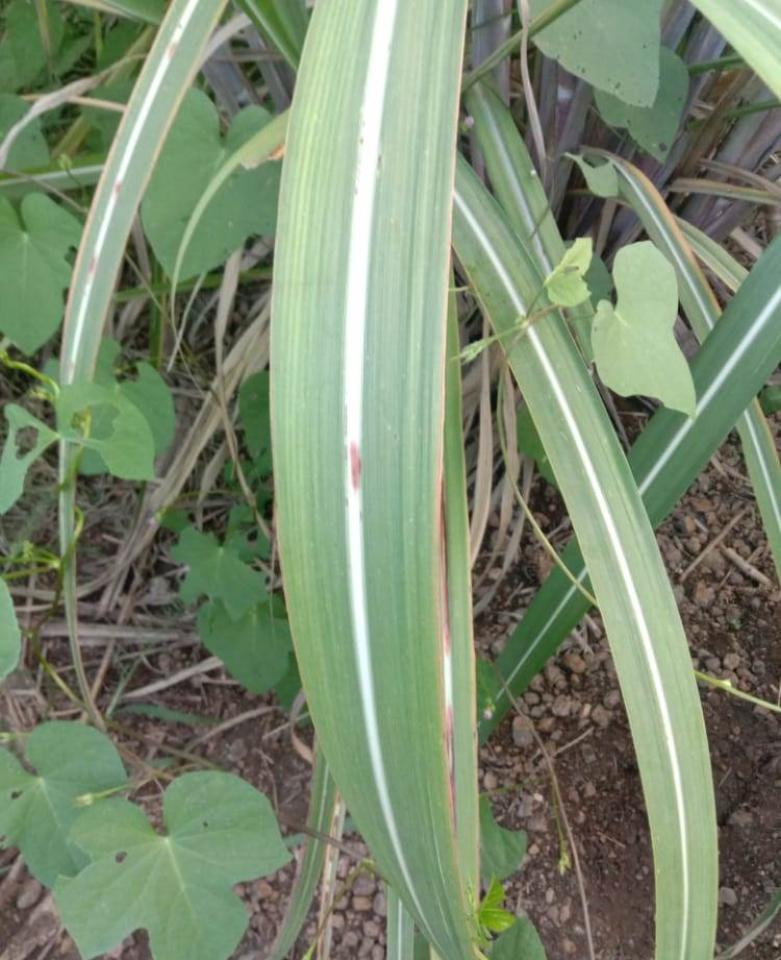RedRot: (440, 476, 452, 657), (444, 701, 459, 839), (349, 441, 362, 493), (87, 255, 99, 283), (166, 41, 178, 59), (113, 180, 122, 194)
